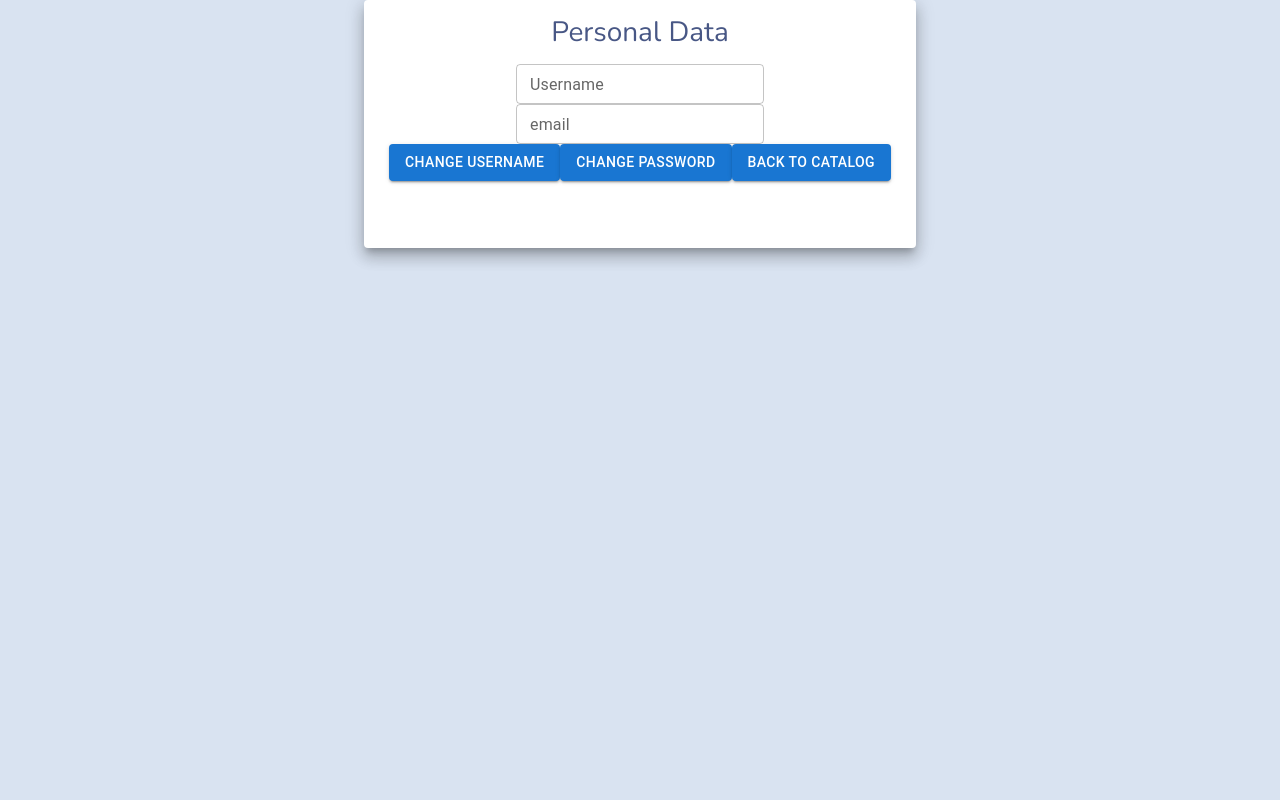
Test: Client view page renders properly when trying to change username
The width and height of the screenshot is (1280, 800).
Expected: the heading "Personal Data" is shown, [551,13,729,51]
Expected: the field labelled "Username" is shown, [516,64,764,104]
Click the button "Change username".
click(475, 162)  # box [389,144,560,180]
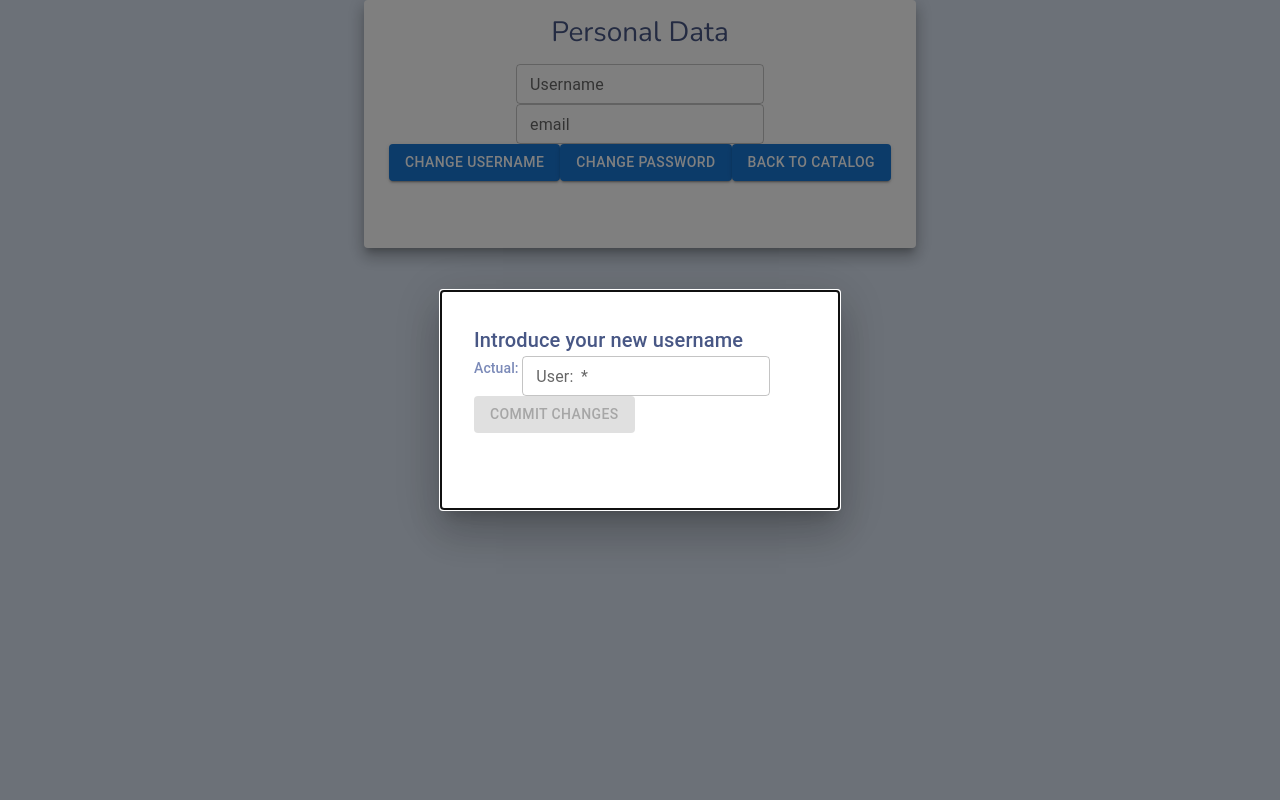
Expected: the heading "Introduce your new username" is shown, [474,328,743,352]
Expected: the text "Actual:" is shown, [474,360,522,376]
Expected: the button "Commit changes" is shown, [474,396,635,432]
